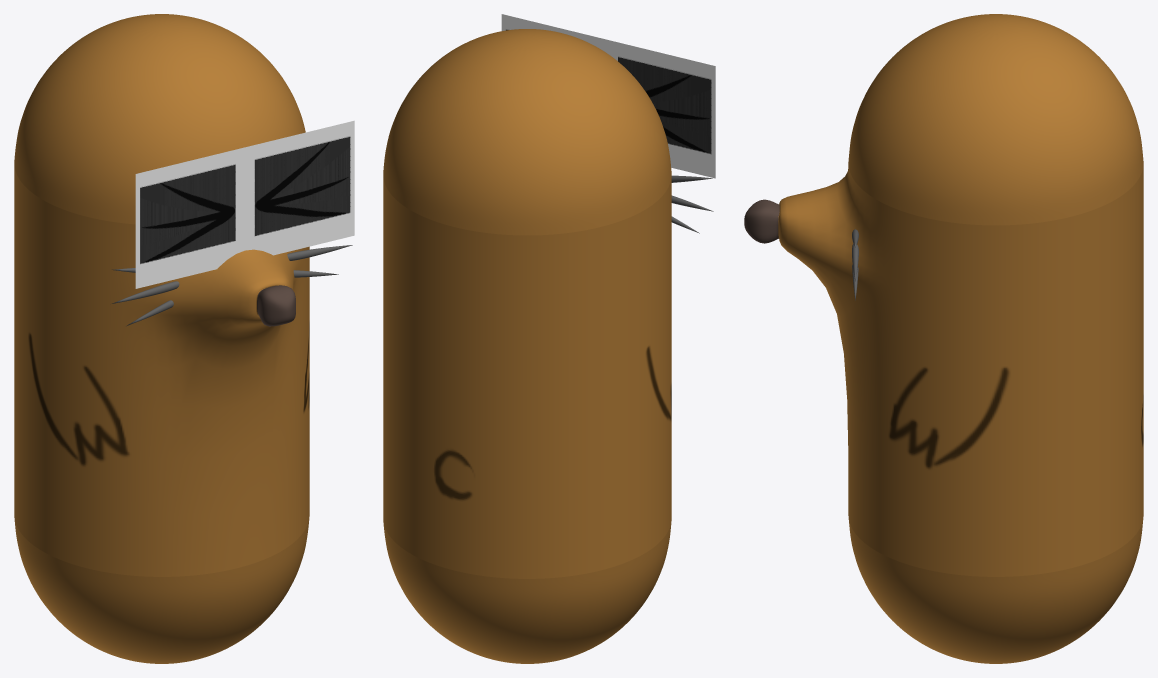
The model's file is mogura_sad 1.fbx.
3 renders of one model, left to right at view 1: azimuth 30°, elevation 25°; view 2: azimuth 150°, elevation 25°; view 3: azimuth 270°, elevation 25°, orthographic. The views are drawn at different scales.
Parts seen in each view (by area): view 1: polySurface13; view 2: polySurface13; view 3: polySurface13.
Boxes of the visible parts, box(x1,y1,x2,y2) form: polySurface13: box(14, 14, 354, 663); polySurface13: box(383, 14, 715, 663); polySurface13: box(744, 14, 1143, 663).
Size of the model in its own units: 19.69 by 45.88 by 26.63.
